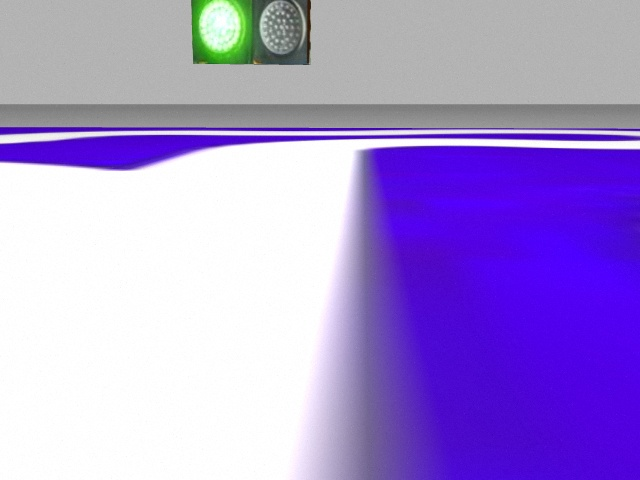green: (192, 1, 253, 66)
